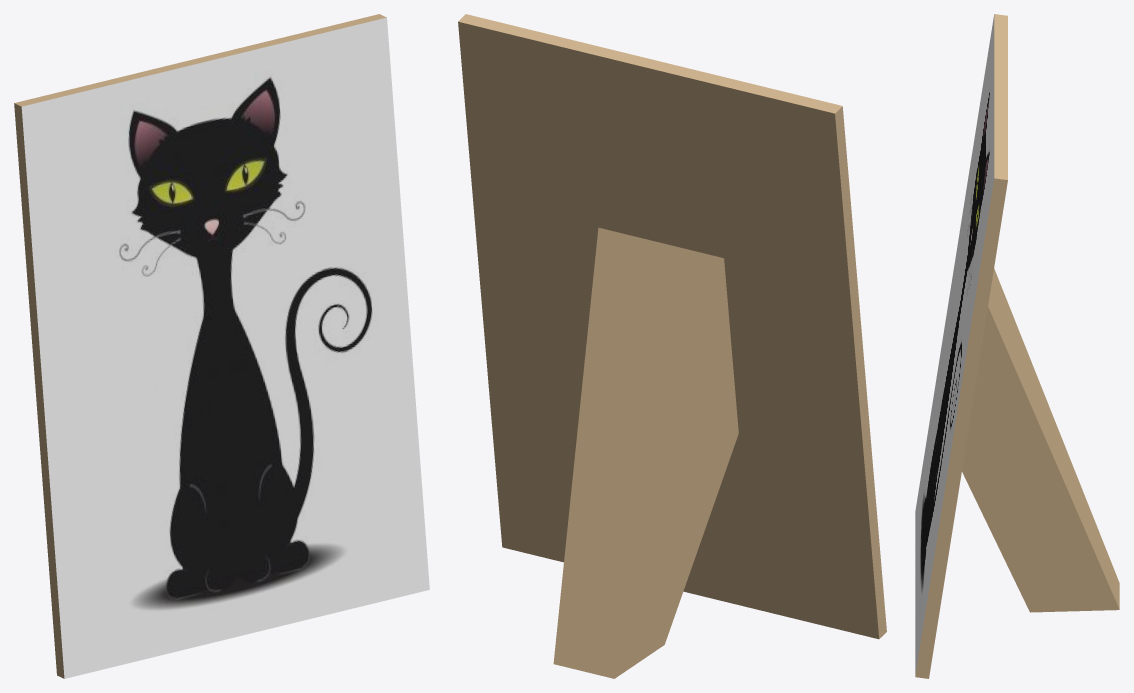
File: cat_sign2.fbx
3 renders of one model, left to right at view 1: azimuth 30°, elevation 25°; view 2: azimuth 150°, elevation 25°; view 3: azimuth 270°, elevation 25°, orthographic. The views are drawn at different scales.
Visible parts, largest first — view 1: pPlane1; view 2: pPlane1; view 3: pPlane1.
Part boxes in pixels (x1=…): pPlane1: x1=14, y1=14, x2=429, y2=678; pPlane1: x1=458, y1=14, x2=886, y2=678; pPlane1: x1=915, y1=14, x2=1119, y2=678.
Size of the model in its own units: 9.89 by 14.11 by 5.2.
2 materials, 1 textured.
